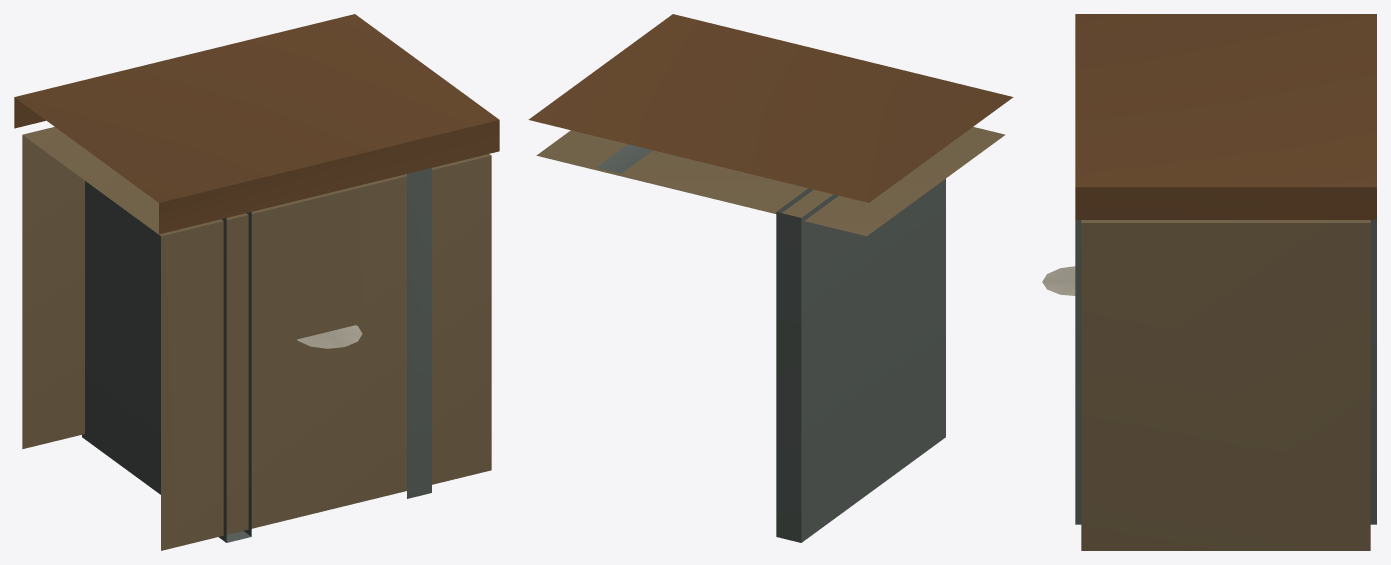
Rendered from cold_store_sealed_crate.glb.
The picture shows the model from 3 angles, left to right: view 1: azimuth 30°, elevation 25°; view 2: azimuth 150°, elevation 25°; view 3: azimuth 270°, elevation 25°; orthographic projection. The views are drawn at different scales.
Visible parts, largest first — view 1: ColdStoreSealedCrate_Mesh; view 2: ColdStoreSealedCrate_Mesh; view 3: ColdStoreSealedCrate_Mesh.
Boxes of the visible parts, box(x1,y1,x2,y2) form: ColdStoreSealedCrate_Mesh: box(14, 14, 499, 550); ColdStoreSealedCrate_Mesh: box(528, 14, 1013, 542); ColdStoreSealedCrate_Mesh: box(1042, 14, 1376, 550).
Size of the model in its own units: 0.68 by 0.68 by 0.555.
